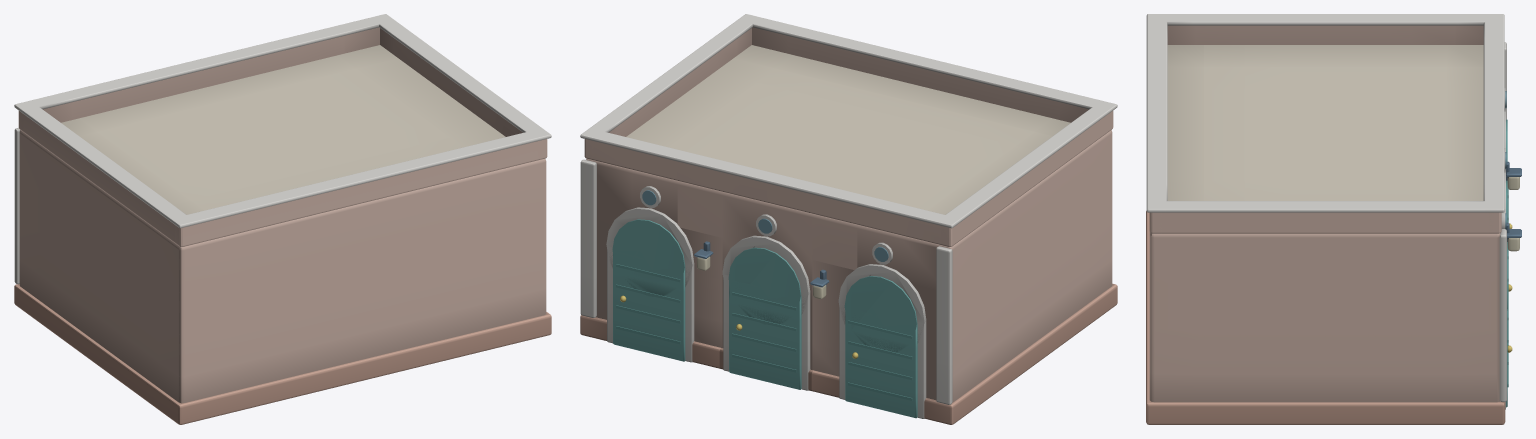
Rendered from warehouse_a.glb.
3 renders of one model, left to right at view 1: azimuth 30°, elevation 25°; view 2: azimuth 150°, elevation 25°; view 3: azimuth 270°, elevation 25°, orthographic. The views are drawn at different scales.
Visible parts, largest first — view 1: warehouse_a; view 2: warehouse_a; view 3: warehouse_a.
Part boxes in pixels (x1,y1,x2,y2): warehouse_a: (14,14,551,424); warehouse_a: (580,14,1117,424); warehouse_a: (1146,14,1521,424).
Bounding box in the file's own units: 7.56 × 3.88 × 6.11.
